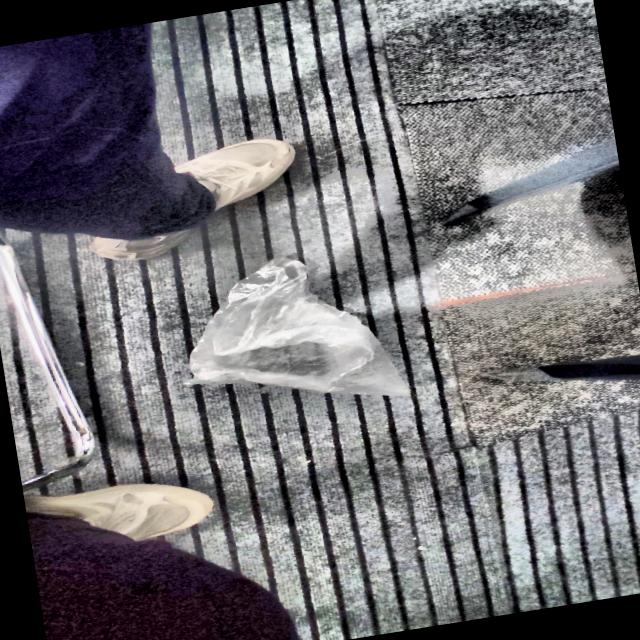plastic bag: (187, 257, 408, 396)
